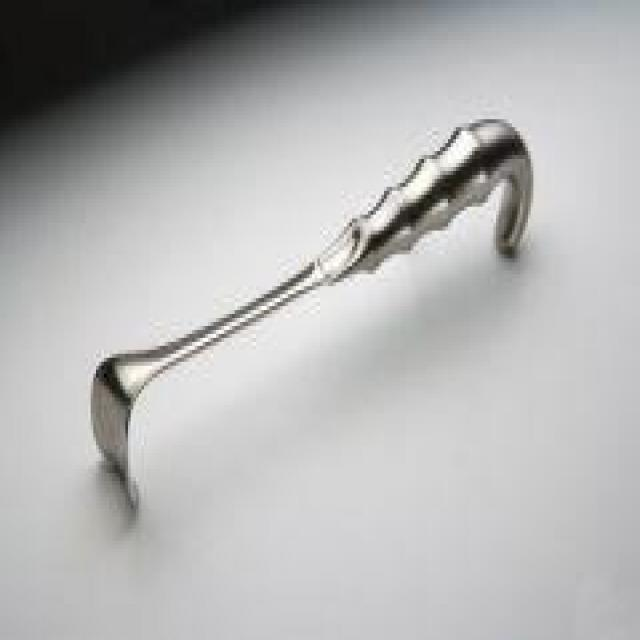Richardson: (88, 111, 539, 521)
